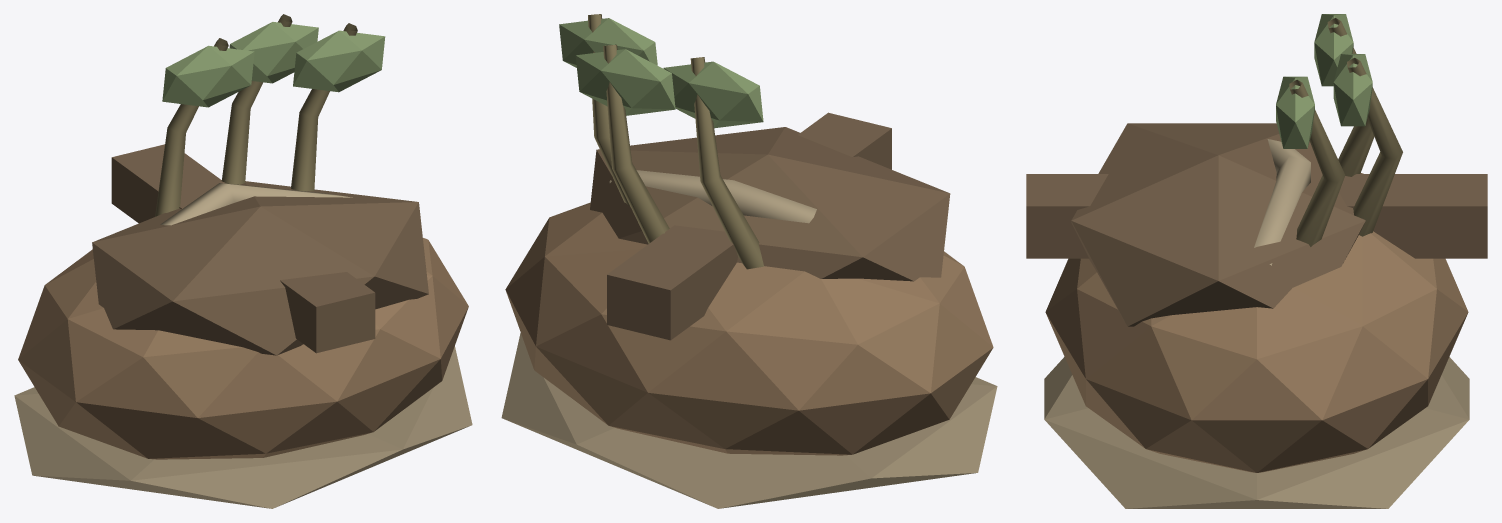
File: herb_pouch.glb
The picture shows the model from 3 angles, left to right: view 1: azimuth 30°, elevation 25°; view 2: azimuth 150°, elevation 25°; view 3: azimuth 270°, elevation 25°; orthographic projection. The views are drawn at different scales.
Visible parts, largest first — view 1: Pouch_Body, Pouch_Flap, Pouch_Mud, Pouch_Strap, Herb_Leaf_2, Herb_Leaf_0, Herb_Leaf_1, Herb_Stem_0, Herb_Stem_2, Herb_Stem_1, Pouch_Draw; view 2: Pouch_Body, Pouch_Flap, Pouch_Mud, Pouch_Strap, Herb_Leaf_1, Herb_Leaf_0, Herb_Stem_0, Herb_Stem_1, Pouch_Draw, Herb_Leaf_2, Herb_Stem_2; view 3: Pouch_Body, Pouch_Flap, Pouch_Mud, Pouch_Strap, Herb_Stem_1, Herb_Stem_2, Pouch_Draw, Herb_Leaf_1, Herb_Leaf_2, Herb_Leaf_0, Herb_Stem_0.
Boxes of the visible parts, left/top/right/bottom form: Pouch_Body: left=18, top=238, right=468, bottom=459; Pouch_Flap: left=92, top=181, right=428, bottom=355; Pouch_Mud: left=14, top=346, right=472, bottom=508; Pouch_Strap: left=111, top=144, right=375, bottom=353; Herb_Leaf_2: left=293, top=30, right=385, bottom=92; Herb_Leaf_0: left=162, top=45, right=254, bottom=107; Herb_Leaf_1: left=229, top=22, right=318, bottom=83; Herb_Stem_0: left=155, top=38, right=228, bottom=216; Herb_Stem_2: left=291, top=23, right=357, bottom=191; Herb_Stem_1: left=221, top=14, right=292, bottom=184; Pouch_Draw: left=160, top=183, right=352, bottom=225; Pouch_Body: left=505, top=202, right=993, bottom=455; Pouch_Flap: left=590, top=127, right=950, bottom=281; Pouch_Mud: left=501, top=333, right=997, bottom=508; Pouch_Strap: left=607, top=112, right=891, bottom=340; Herb_Leaf_1: left=575, top=49, right=675, bottom=115; Herb_Leaf_0: left=663, top=61, right=763, bottom=128; Herb_Stem_0: left=690, top=57, right=764, bottom=269; Herb_Stem_1: left=603, top=44, right=669, bottom=243; Pouch_Draw: left=609, top=170, right=816, bottom=223; Herb_Leaf_2: left=559, top=18, right=657, bottom=67; Herb_Stem_2: left=588, top=14, right=629, bottom=205; Pouch_Body: left=1045, top=173, right=1468, bottom=472; Pouch_Flap: left=1071, top=123, right=1365, bottom=326; Pouch_Mud: left=1044, top=357, right=1469, bottom=508; Pouch_Strap: left=1026, top=174, right=1487, bottom=258; Herb_Stem_1: left=1347, top=57, right=1402, bottom=236; Herb_Stem_2: left=1289, top=80, right=1345, bottom=246; Pouch_Draw: left=1254, top=139, right=1310, bottom=265; Herb_Leaf_1: left=1333, top=54, right=1372, bottom=126; Herb_Leaf_2: left=1276, top=76, right=1314, bottom=148; Herb_Leaf_0: left=1314, top=14, right=1353, bottom=86; Herb_Stem_0: left=1327, top=18, right=1374, bottom=176.
Bounding box in the file's own units: 0.2862 × 0.2415 × 0.24.
